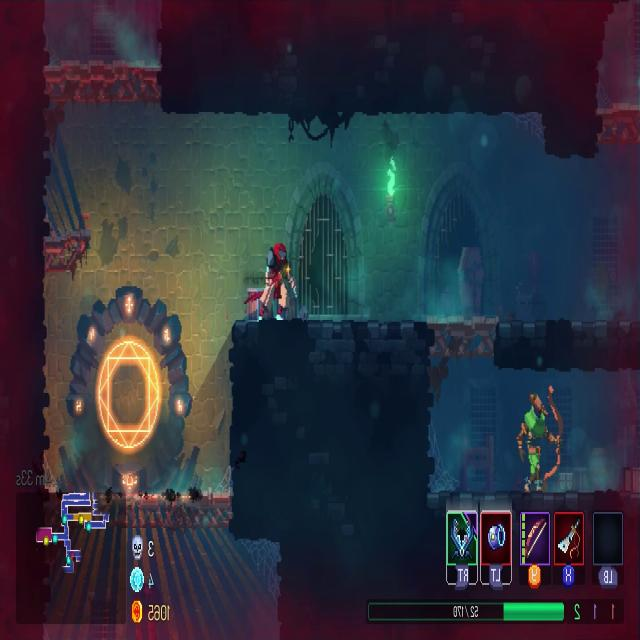agents: (261, 243, 296, 323)
enemy_archer: (519, 388, 561, 492)
wood_floor: (45, 482, 230, 532), (42, 58, 162, 105), (425, 315, 497, 361), (42, 228, 88, 277), (596, 102, 639, 143)
